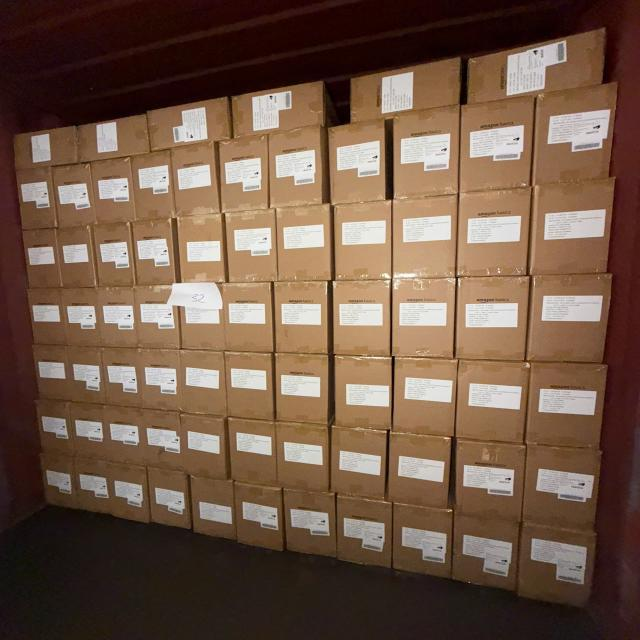Carton: (464, 25, 610, 107), (532, 85, 616, 187), (529, 181, 614, 276), (348, 55, 462, 122), (530, 272, 613, 361), (526, 361, 608, 450), (522, 442, 602, 532), (460, 98, 535, 192), (458, 189, 533, 278), (518, 524, 596, 609), (456, 276, 532, 361), (393, 106, 462, 198), (454, 438, 527, 523), (458, 360, 529, 446), (452, 516, 520, 598), (394, 195, 459, 278), (234, 78, 328, 135), (387, 430, 452, 512), (394, 358, 459, 439), (394, 276, 458, 358), (327, 120, 388, 204), (270, 125, 329, 206), (146, 94, 231, 150), (394, 505, 454, 584), (335, 200, 394, 280), (332, 280, 392, 358), (334, 354, 394, 429), (330, 424, 386, 504), (334, 494, 392, 570), (277, 207, 333, 284), (74, 109, 152, 162), (275, 280, 329, 355), (274, 354, 329, 427), (283, 488, 337, 560), (274, 424, 328, 495), (218, 138, 268, 214), (235, 483, 287, 556), (227, 209, 278, 283), (222, 351, 274, 423), (228, 417, 280, 489), (222, 280, 273, 352), (180, 410, 232, 480), (174, 145, 222, 218), (11, 123, 84, 171), (177, 212, 226, 283), (178, 281, 224, 351), (181, 346, 227, 416), (191, 475, 238, 543), (104, 460, 153, 524), (100, 402, 148, 467), (62, 342, 109, 407), (131, 220, 175, 289), (149, 468, 194, 534), (133, 153, 174, 222), (136, 288, 179, 352), (52, 166, 94, 230), (91, 160, 131, 227), (29, 344, 74, 403), (141, 408, 181, 474), (34, 398, 78, 458), (38, 450, 82, 510), (140, 347, 179, 413), (92, 222, 132, 286), (14, 168, 55, 230), (69, 400, 110, 462), (72, 454, 113, 515), (101, 289, 139, 352), (106, 345, 145, 406), (62, 286, 100, 346), (60, 230, 96, 291), (22, 227, 58, 287), (31, 290, 66, 348)
